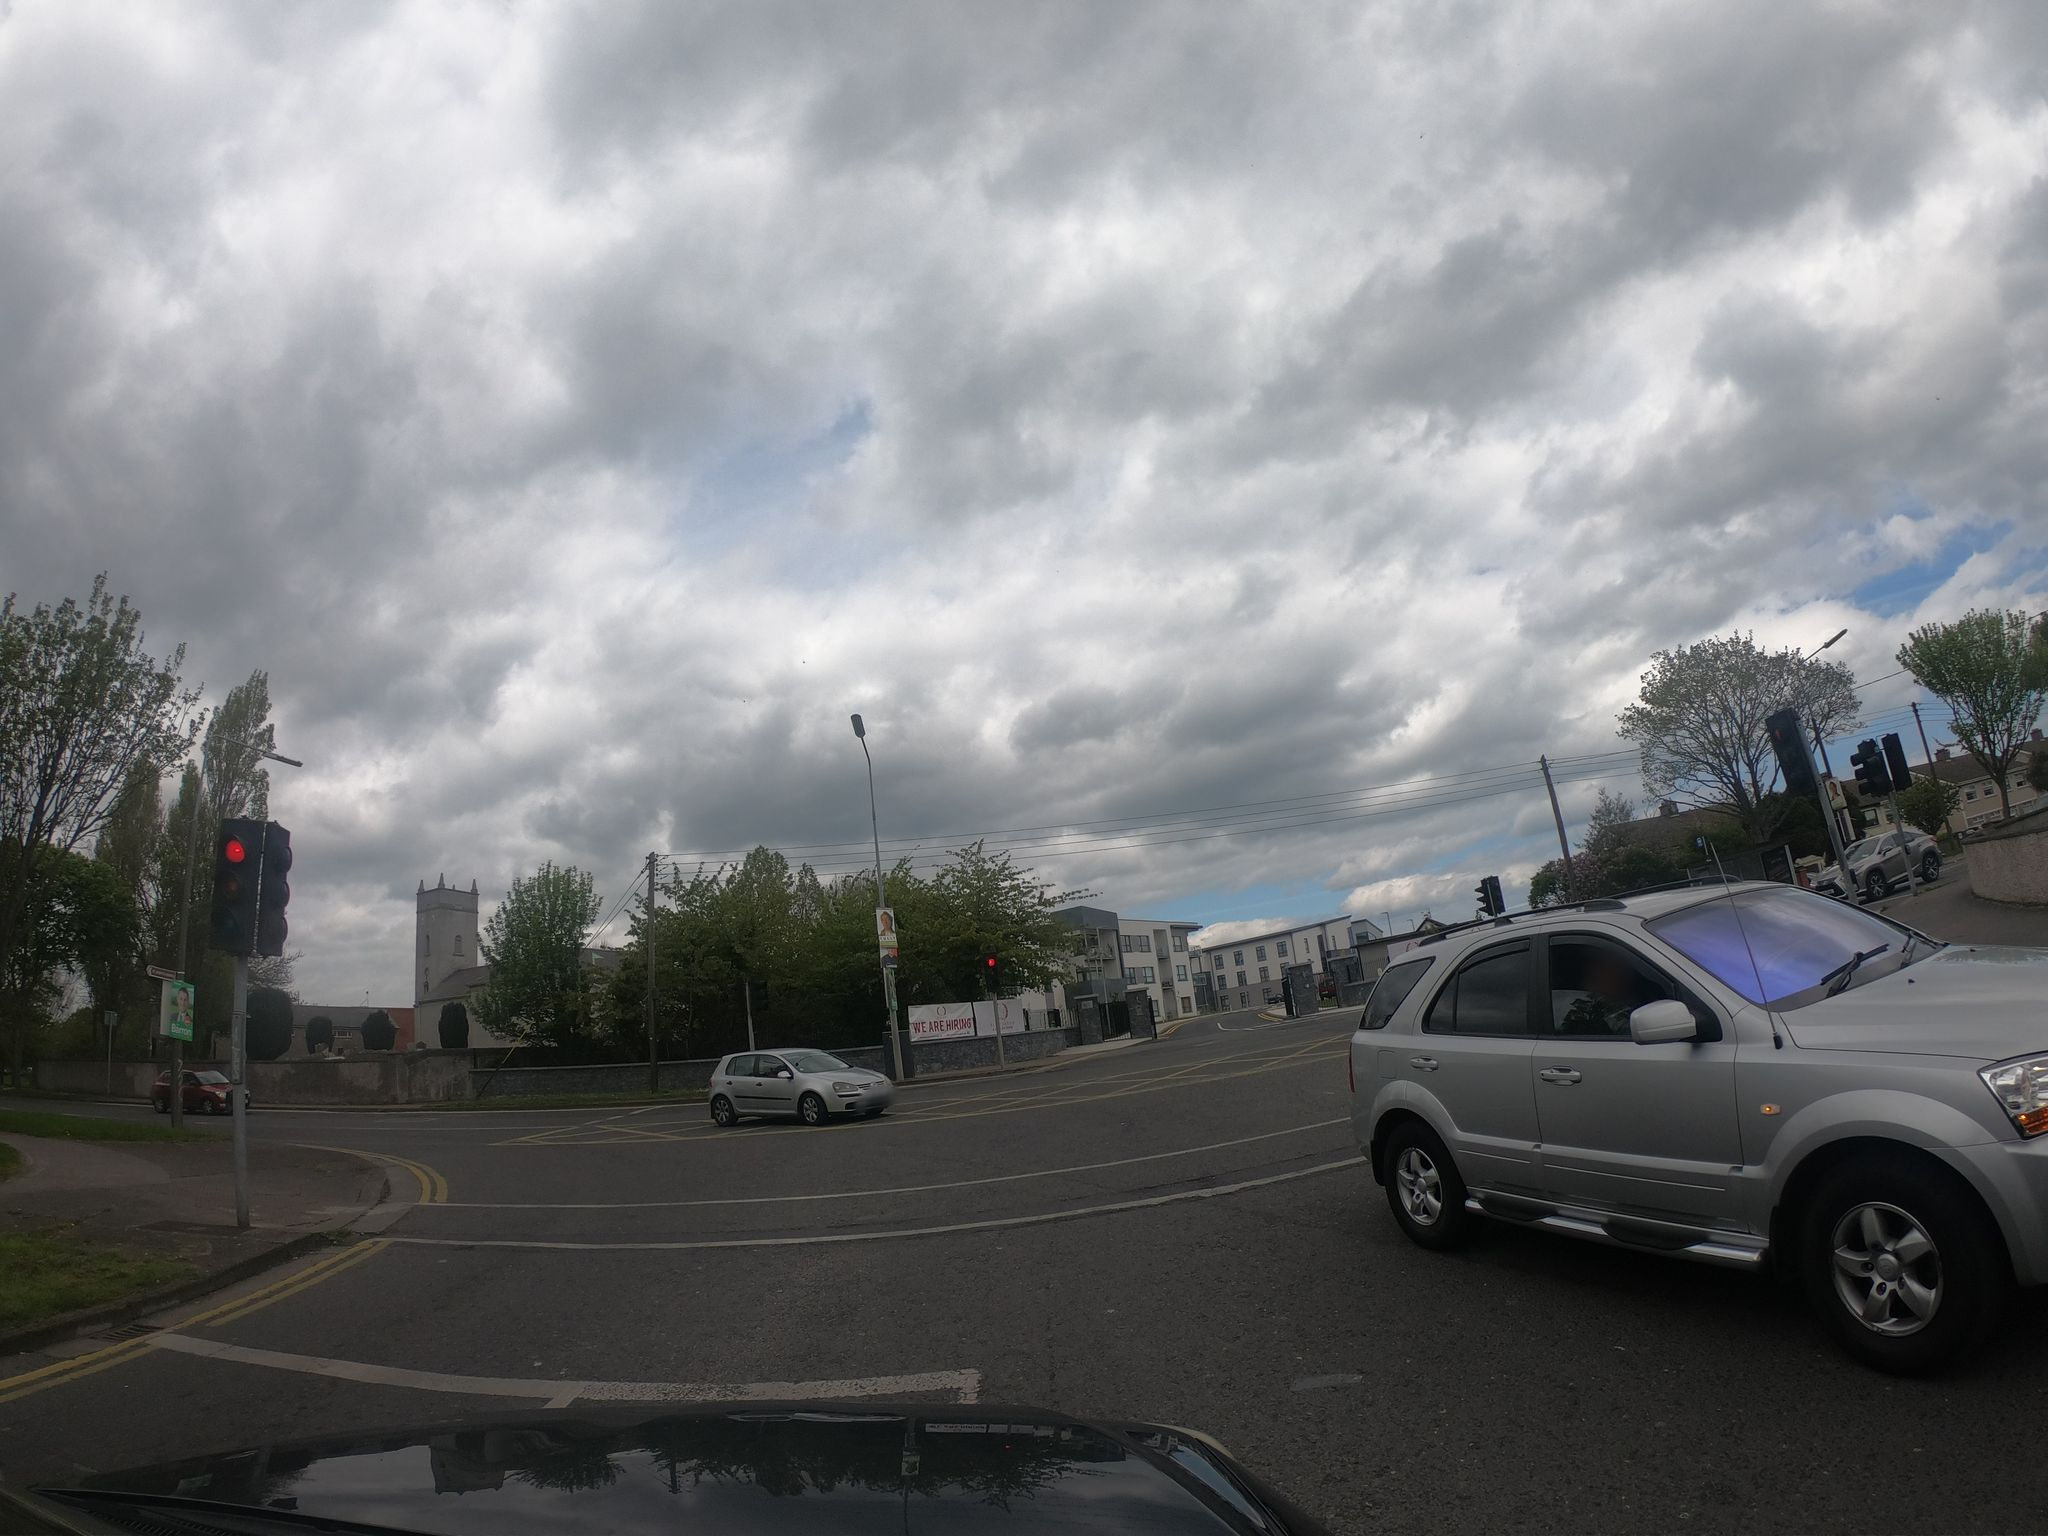vinyl banner: (897, 991, 997, 1046)
